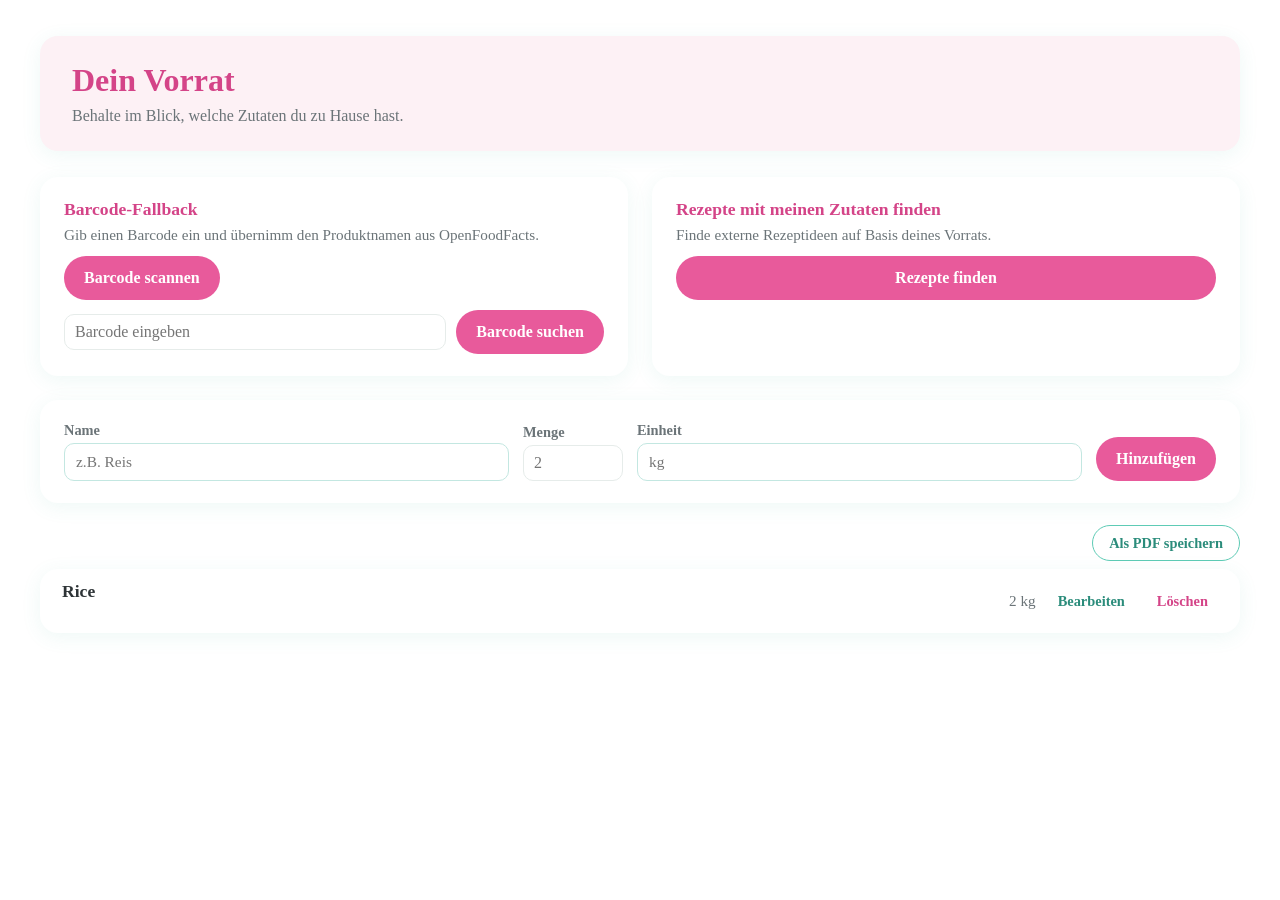
Scenario: PantryView › shows forbidden message when update returns 403
Click the button with class "edit-btn" at (1091, 601), box 1048,581 -> 1135,621
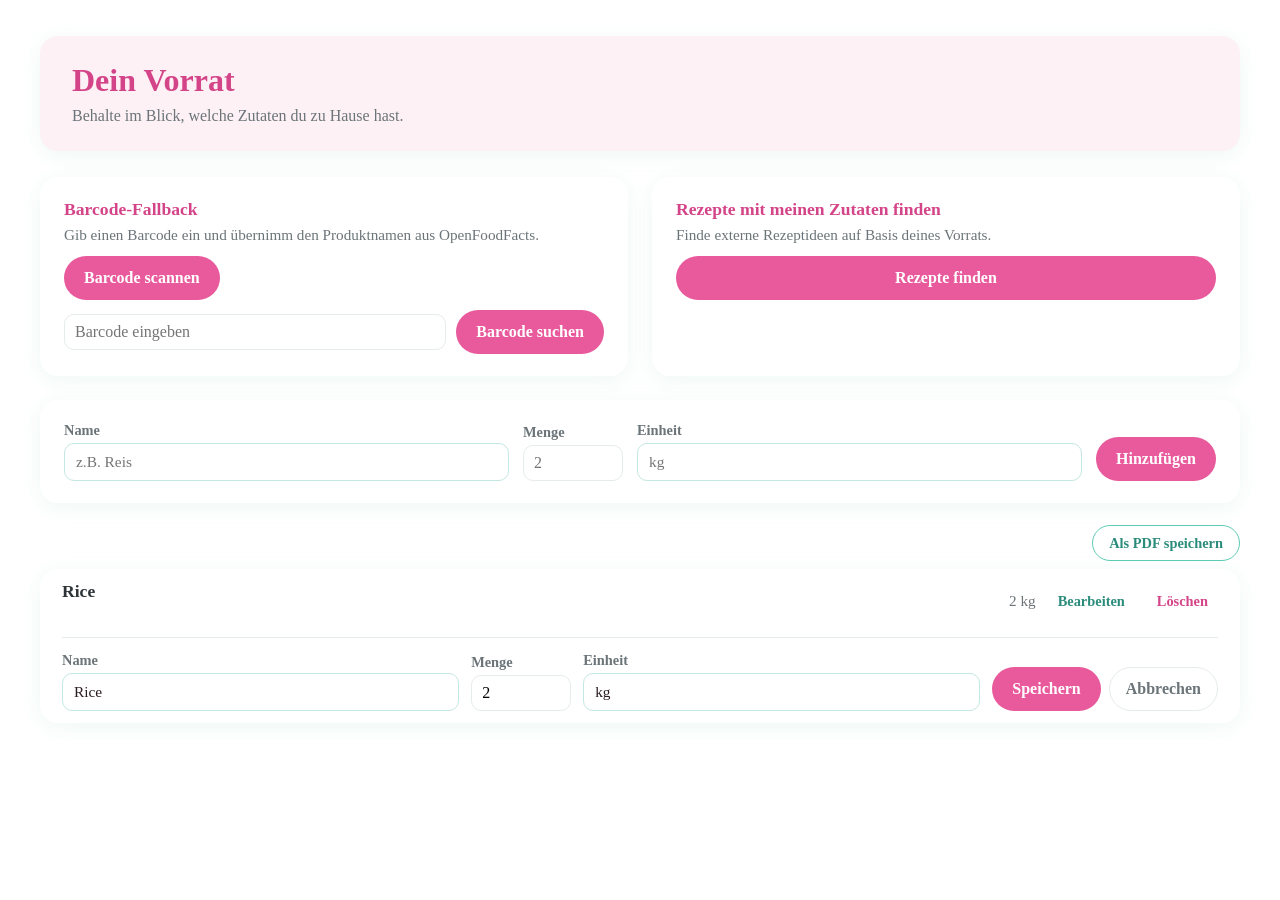
Submit the form with class "edit-form", box 62,637 -> 1218,711
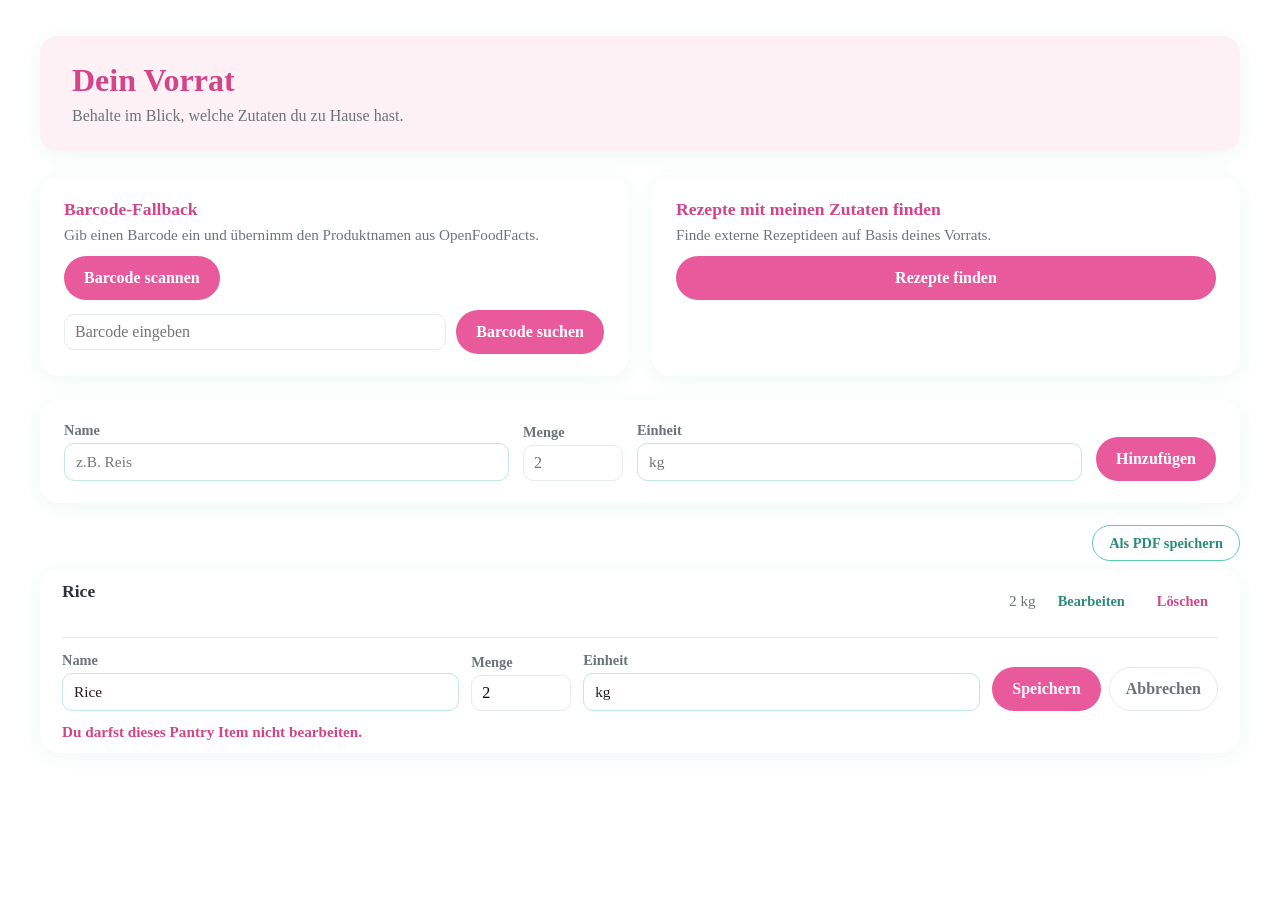
Expected: the text "Du darfst dieses Pantry Item nicht bearbeiten." is shown, 62,723 -> 362,740
